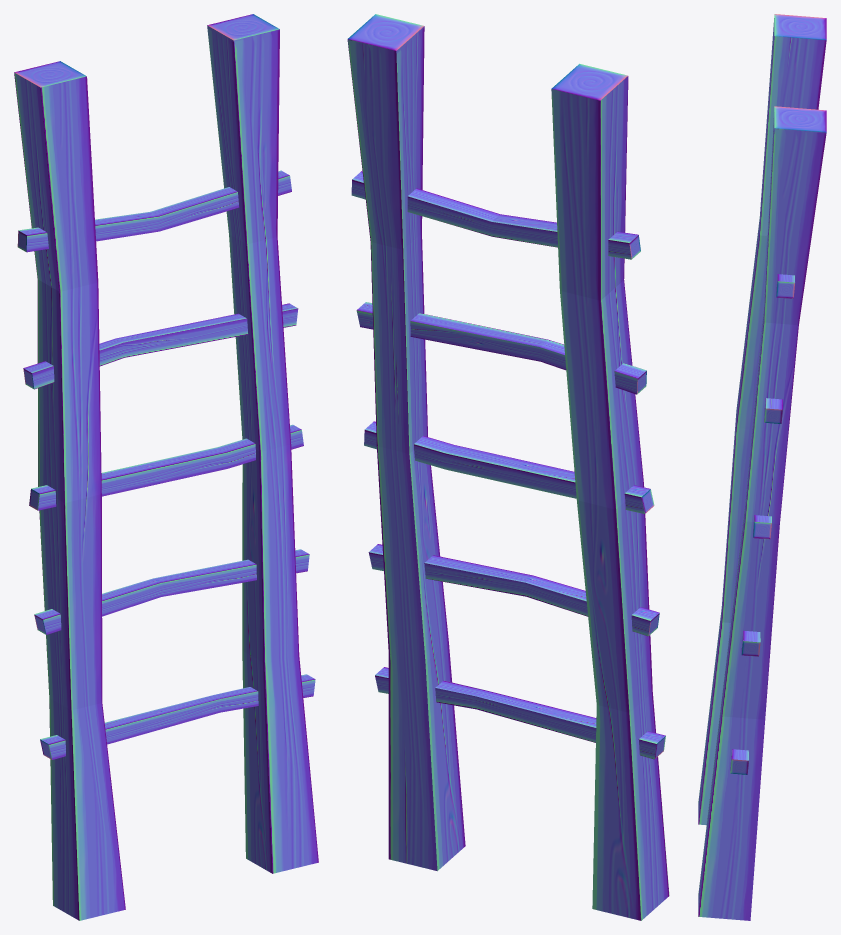
File: SM_Ladder_A.fbx
3 views of the same model, side by side, from view 1: azimuth 30°, elevation 25°; view 2: azimuth 150°, elevation 25°; view 3: azimuth 270°, elevation 25° (orthographic). The views are drawn at different scales.
Parts seen in each view (by area): view 1: SM_Ladder_A; view 2: SM_Ladder_A; view 3: SM_Ladder_A.
Boxes of the visible parts, box(x1,y1,x2,y2) form: SM_Ladder_A: box(14, 14, 318, 920); SM_Ladder_A: box(347, 14, 669, 920); SM_Ladder_A: box(698, 14, 826, 920).
Size of the model in its own units: 69.09 by 200 by 29.39.
